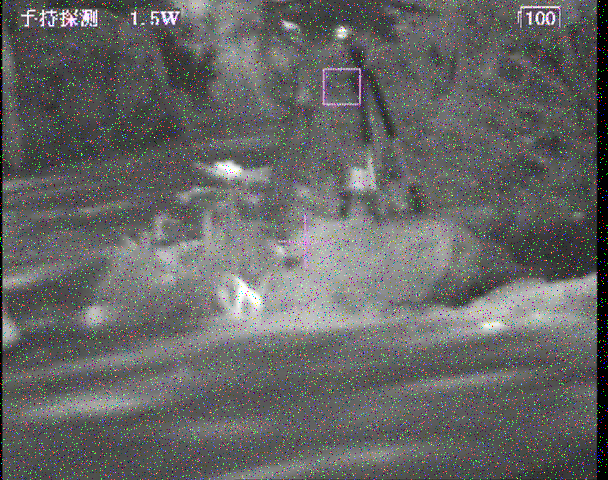my: (335, 26, 348, 40)
